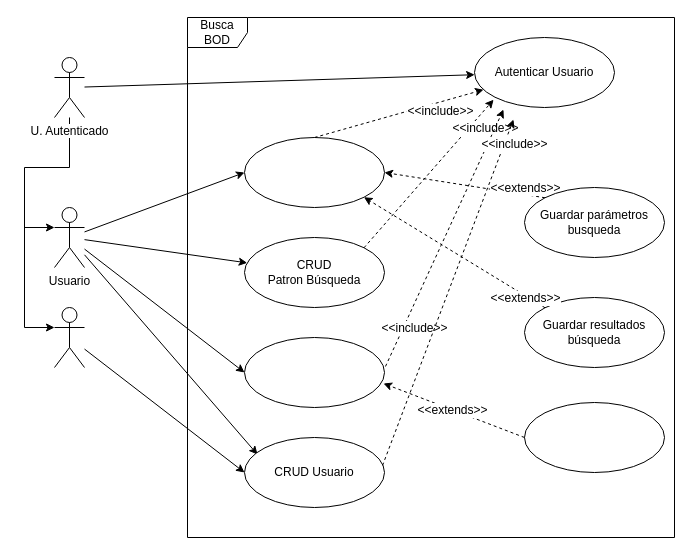
Some shapes in this 692 by 555 pixel diagram are drawn without their labels. Here are the shapes that lost their labels. From the top down, the centre of each, then its label:
At point 314,172: "Realizar Busqueda PDF".
At point 69,337: "Adminsitrador".
At point 314,372: "Consultar Resultado Búsqueda".
At point 594,437: "Borrar resultados búsqueda".
